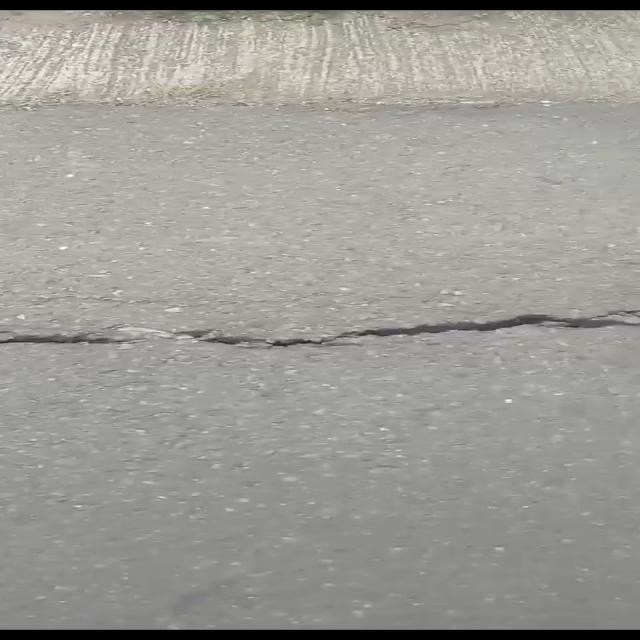Melintang: (0, 300, 638, 360)
